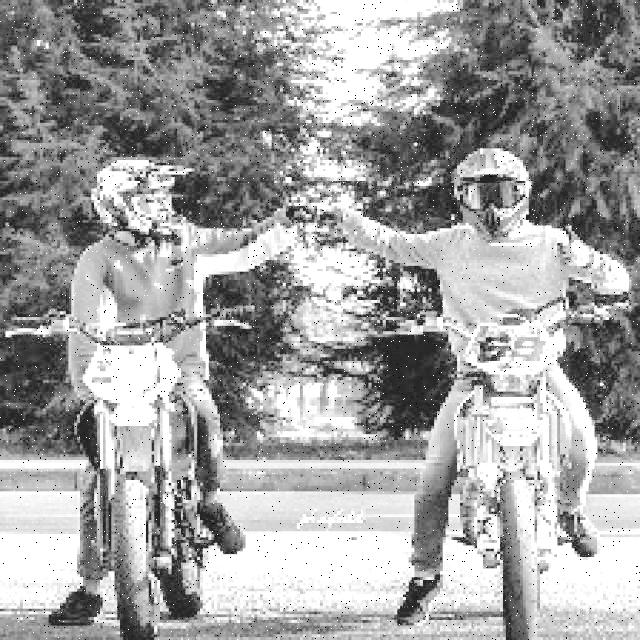Bike: (67, 324, 215, 628), (458, 322, 574, 620)
